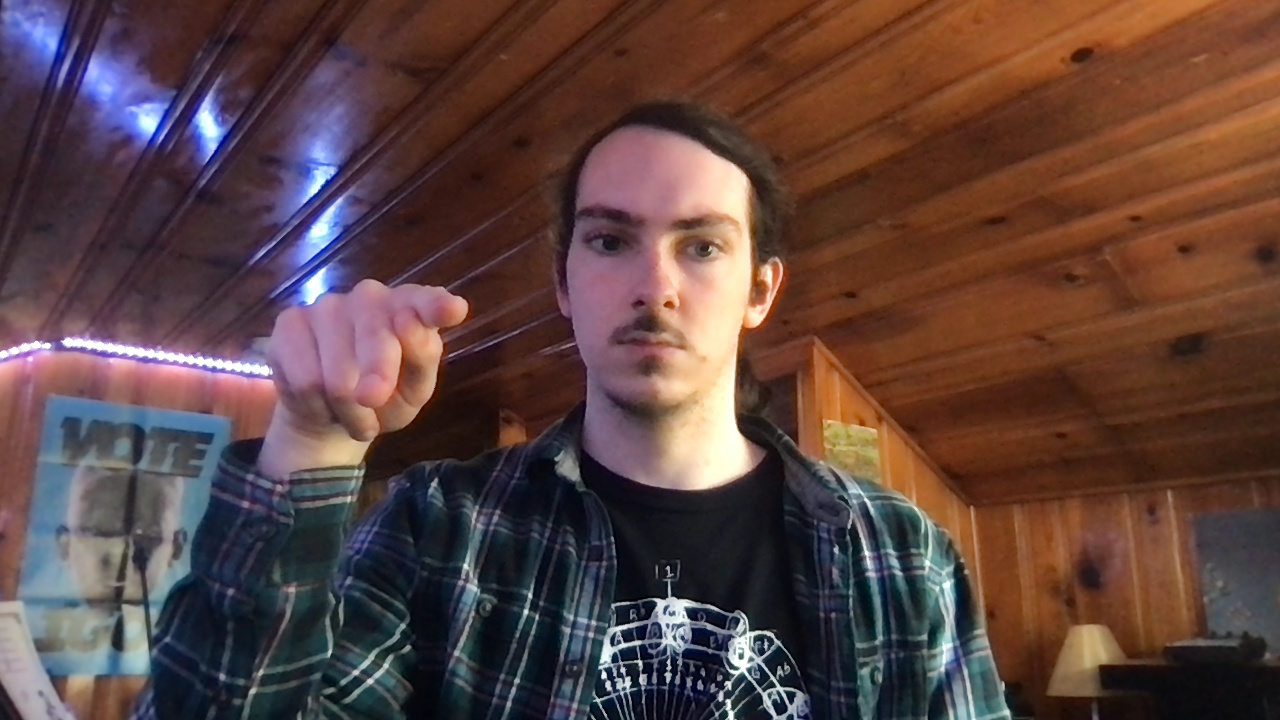p: (264, 275, 470, 442)
